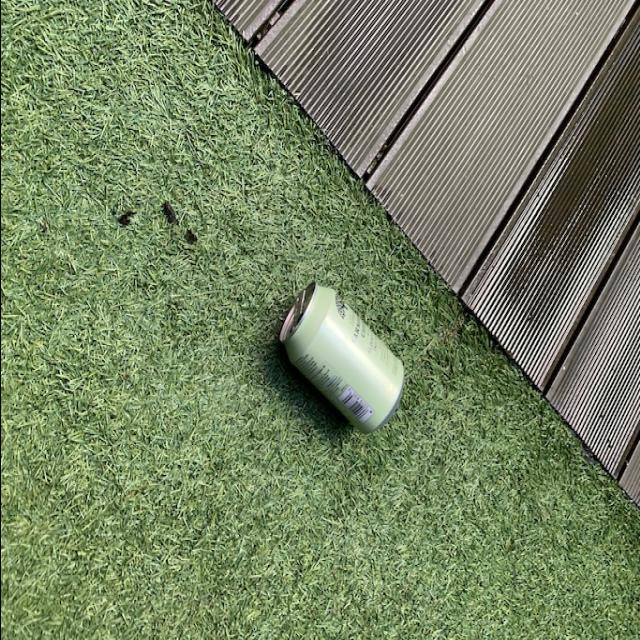litter: (274, 282, 402, 438)
